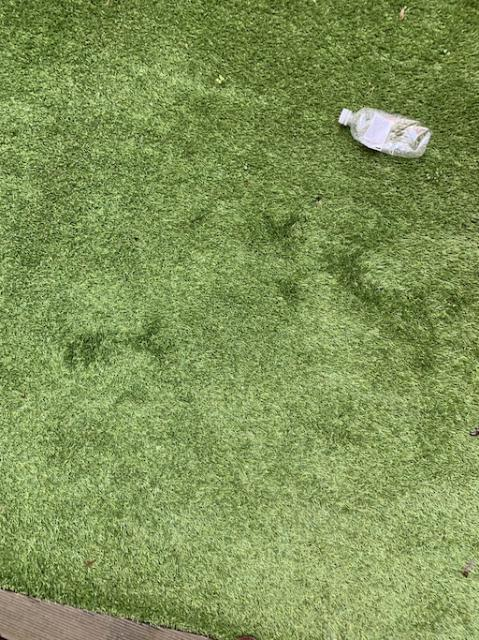plastic: (338, 107, 430, 156)
